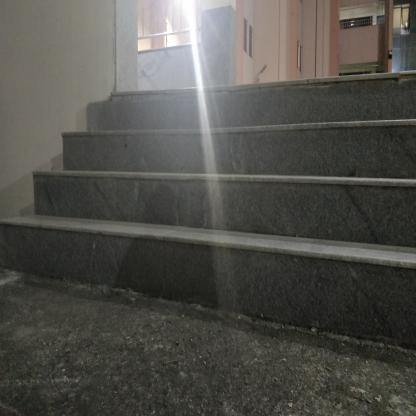stairs: (101, 71, 412, 315)
